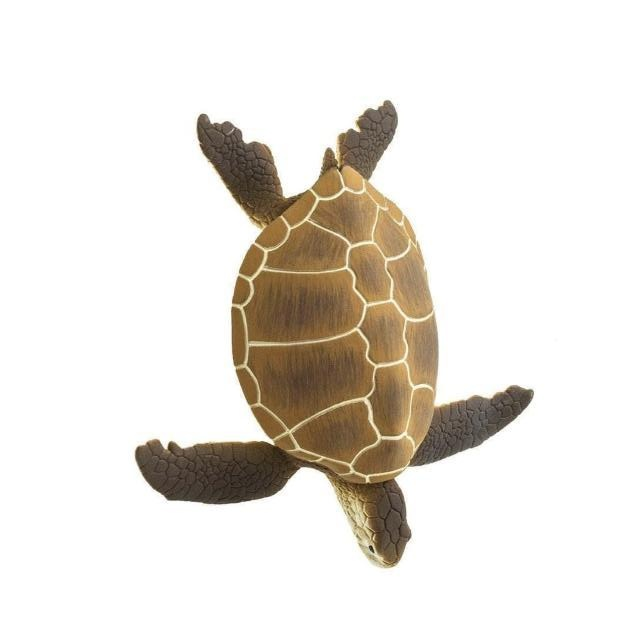turtle: (133, 99, 536, 570)
